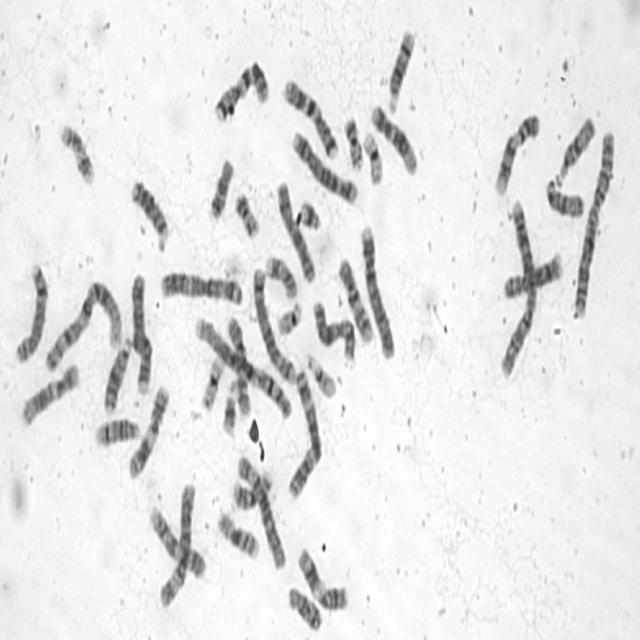A1: (192, 314, 294, 422), (42, 275, 124, 374)
A2: (570, 127, 616, 321), (497, 197, 538, 382)
A3: (284, 364, 322, 499), (157, 265, 245, 307)
B4: (358, 220, 396, 361), (128, 268, 154, 396)
B5: (251, 261, 297, 387), (290, 127, 359, 206)
C10: (336, 254, 374, 346), (225, 313, 252, 423)
C11: (125, 380, 171, 480), (296, 544, 350, 614)
C12: (18, 358, 80, 429), (368, 100, 418, 176)
C6: (236, 449, 287, 571), (158, 480, 198, 611)
C7: (280, 75, 340, 161), (211, 56, 271, 124)
C8: (12, 255, 49, 365), (500, 248, 564, 302)
C9: (146, 500, 208, 579), (493, 109, 541, 198)
D13: (128, 174, 170, 253), (101, 334, 132, 414)
D14: (385, 24, 416, 116), (92, 413, 141, 449)
D15: (552, 112, 596, 188), (544, 173, 586, 221)
E16: (215, 508, 262, 565), (232, 464, 274, 513)
E17: (58, 119, 96, 191), (262, 250, 298, 302)
E18: (206, 154, 235, 222), (286, 581, 324, 632)
F19: (198, 352, 225, 412), (361, 126, 384, 188)
F20: (232, 187, 261, 240), (341, 113, 364, 174)
G21: (298, 195, 322, 232), (220, 388, 238, 436)
G22: (305, 350, 337, 401), (275, 297, 304, 337)
X: (274, 177, 318, 287), (310, 296, 356, 364)
